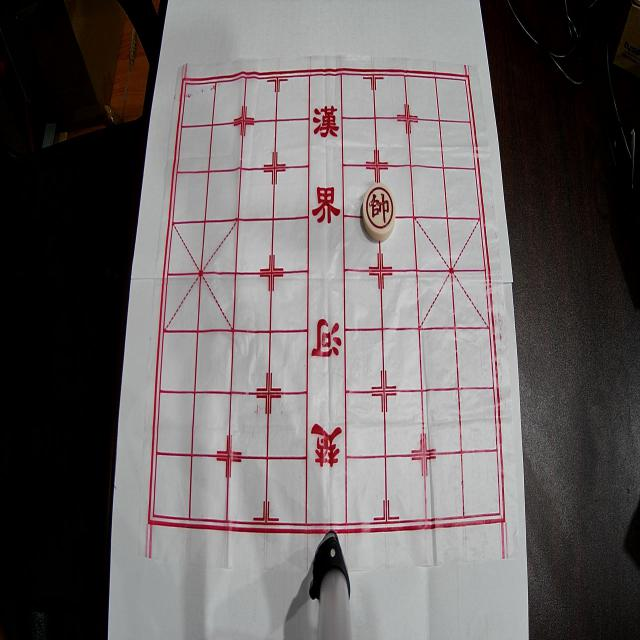red-general: (363, 183, 396, 241)
